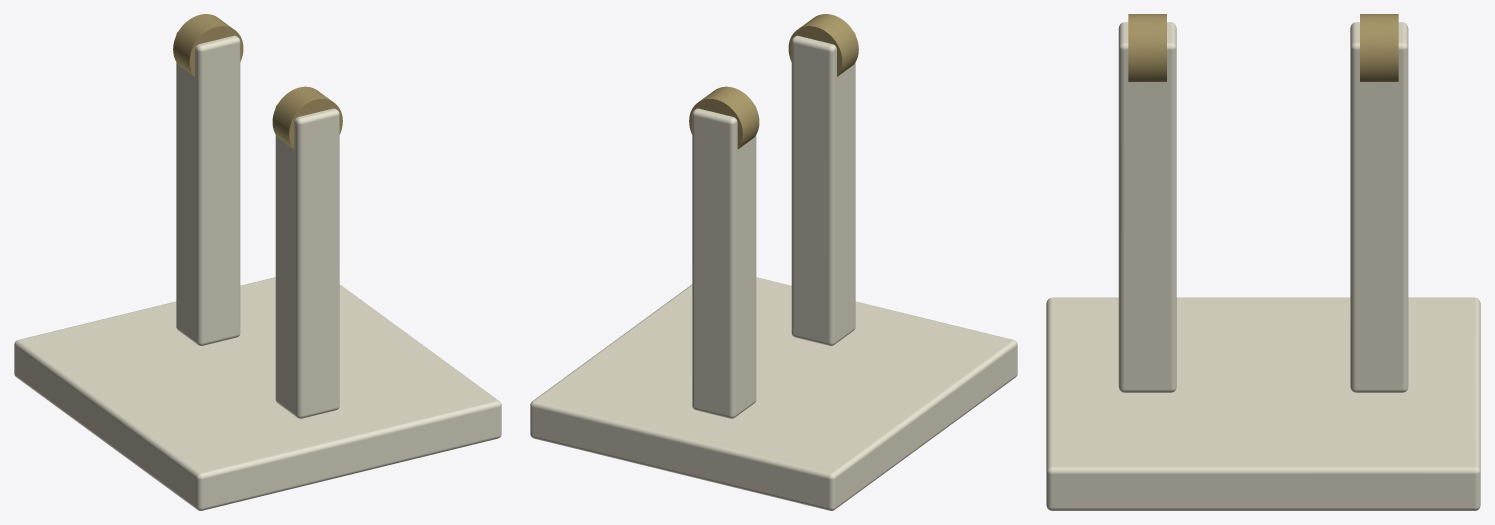
The model's file is water-clock-garden-and-hydraulic-puzzles-balance-timer-316488ea__31936.glb.
The picture shows the model from 3 angles, left to right: view 1: azimuth 30°, elevation 25°; view 2: azimuth 150°, elevation 25°; view 3: azimuth 270°, elevation 25°; orthographic projection. The views are drawn at different scales.
Visible parts, largest first — view 1: balance-timer-pivot-bridge; view 2: balance-timer-pivot-bridge; view 3: balance-timer-pivot-bridge.
Boxes of the visible parts, <box> form: balance-timer-pivot-bridge: <box>14,14,501,510</box>; balance-timer-pivot-bridge: <box>530,14,1017,510</box>; balance-timer-pivot-bridge: <box>1046,14,1480,510</box>.
Size of the model in its own units: 0.85 by 0.935 by 0.9.
